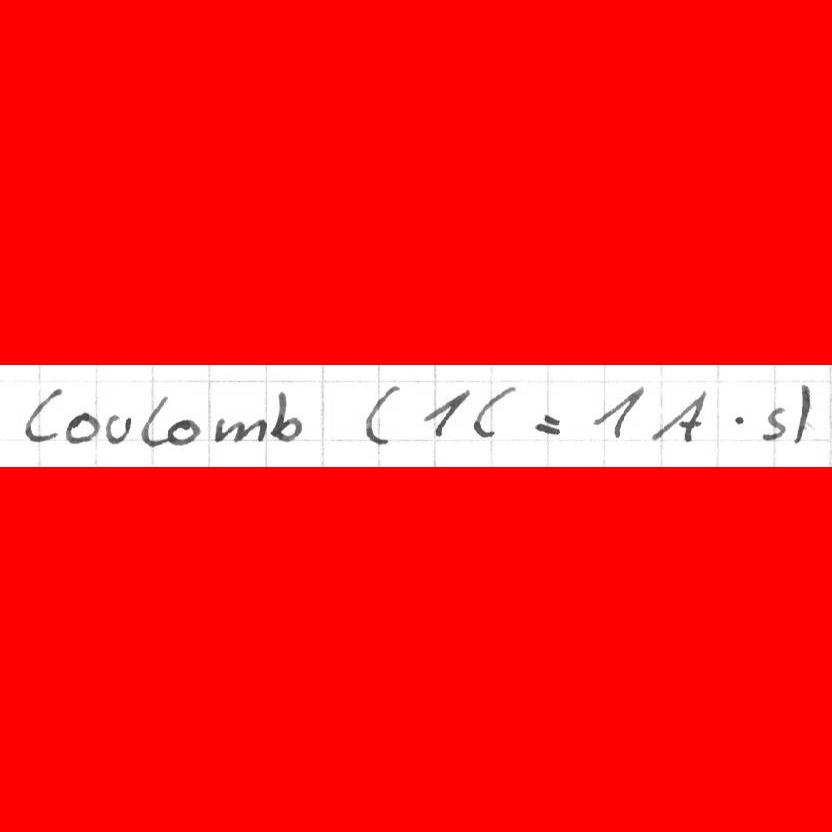Char: (652, 392, 708, 442), (419, 387, 469, 440), (592, 386, 643, 437), (360, 382, 401, 445), (473, 385, 516, 439), (21, 386, 62, 442), (267, 389, 304, 441), (214, 414, 267, 445), (792, 380, 816, 447), (140, 392, 167, 448), (62, 409, 101, 445), (759, 404, 787, 443), (104, 410, 133, 445), (531, 410, 564, 438), (167, 420, 200, 446), (728, 411, 749, 429)
